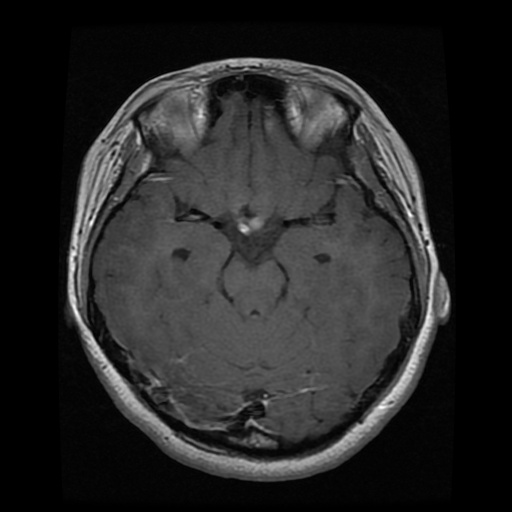pituitary: (237, 216, 264, 236)
